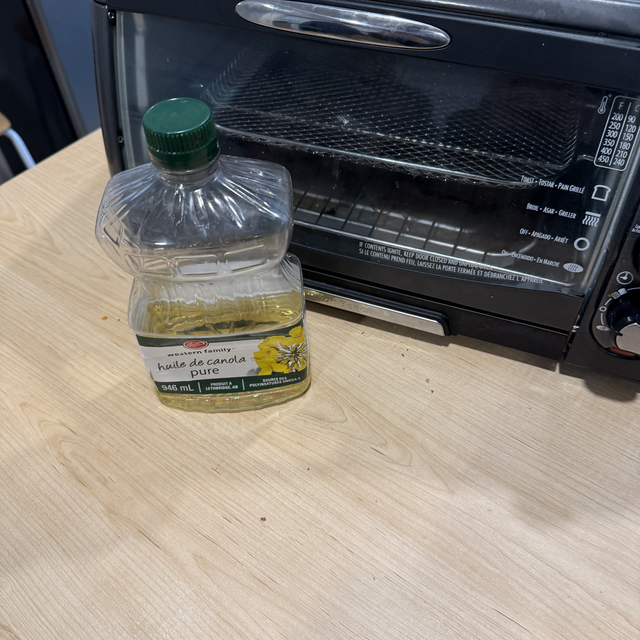Canola Oil: (88, 96, 323, 419)
Toaster Oven: (43, 0, 640, 388)
